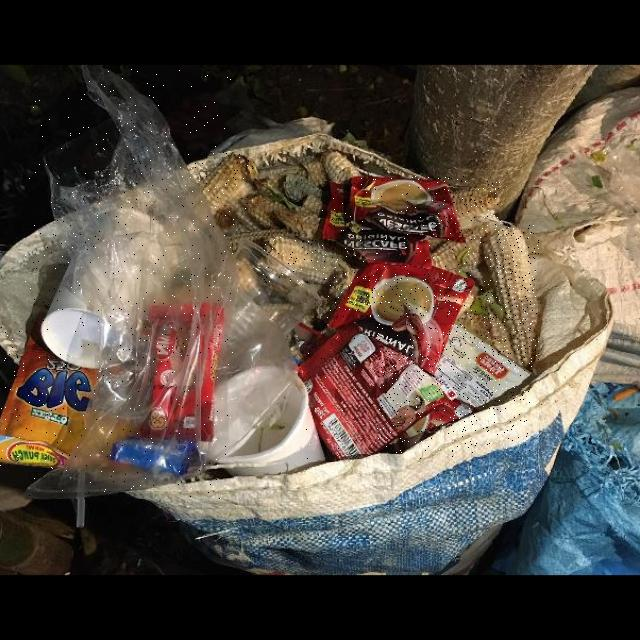biowaste: (481, 224, 539, 372), (264, 235, 351, 285), (431, 227, 493, 278), (202, 152, 255, 210), (453, 181, 501, 222)
plastic: (26, 66, 234, 499)
wrapper: (298, 317, 456, 461), (377, 324, 530, 452), (328, 262, 476, 373), (0, 323, 101, 466), (140, 299, 225, 441), (323, 181, 432, 269), (352, 176, 467, 242)
